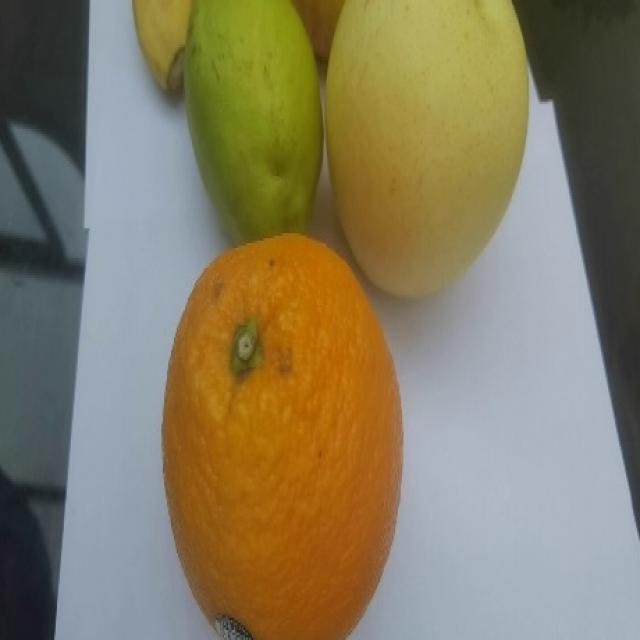Orange: (160, 232, 404, 639)
